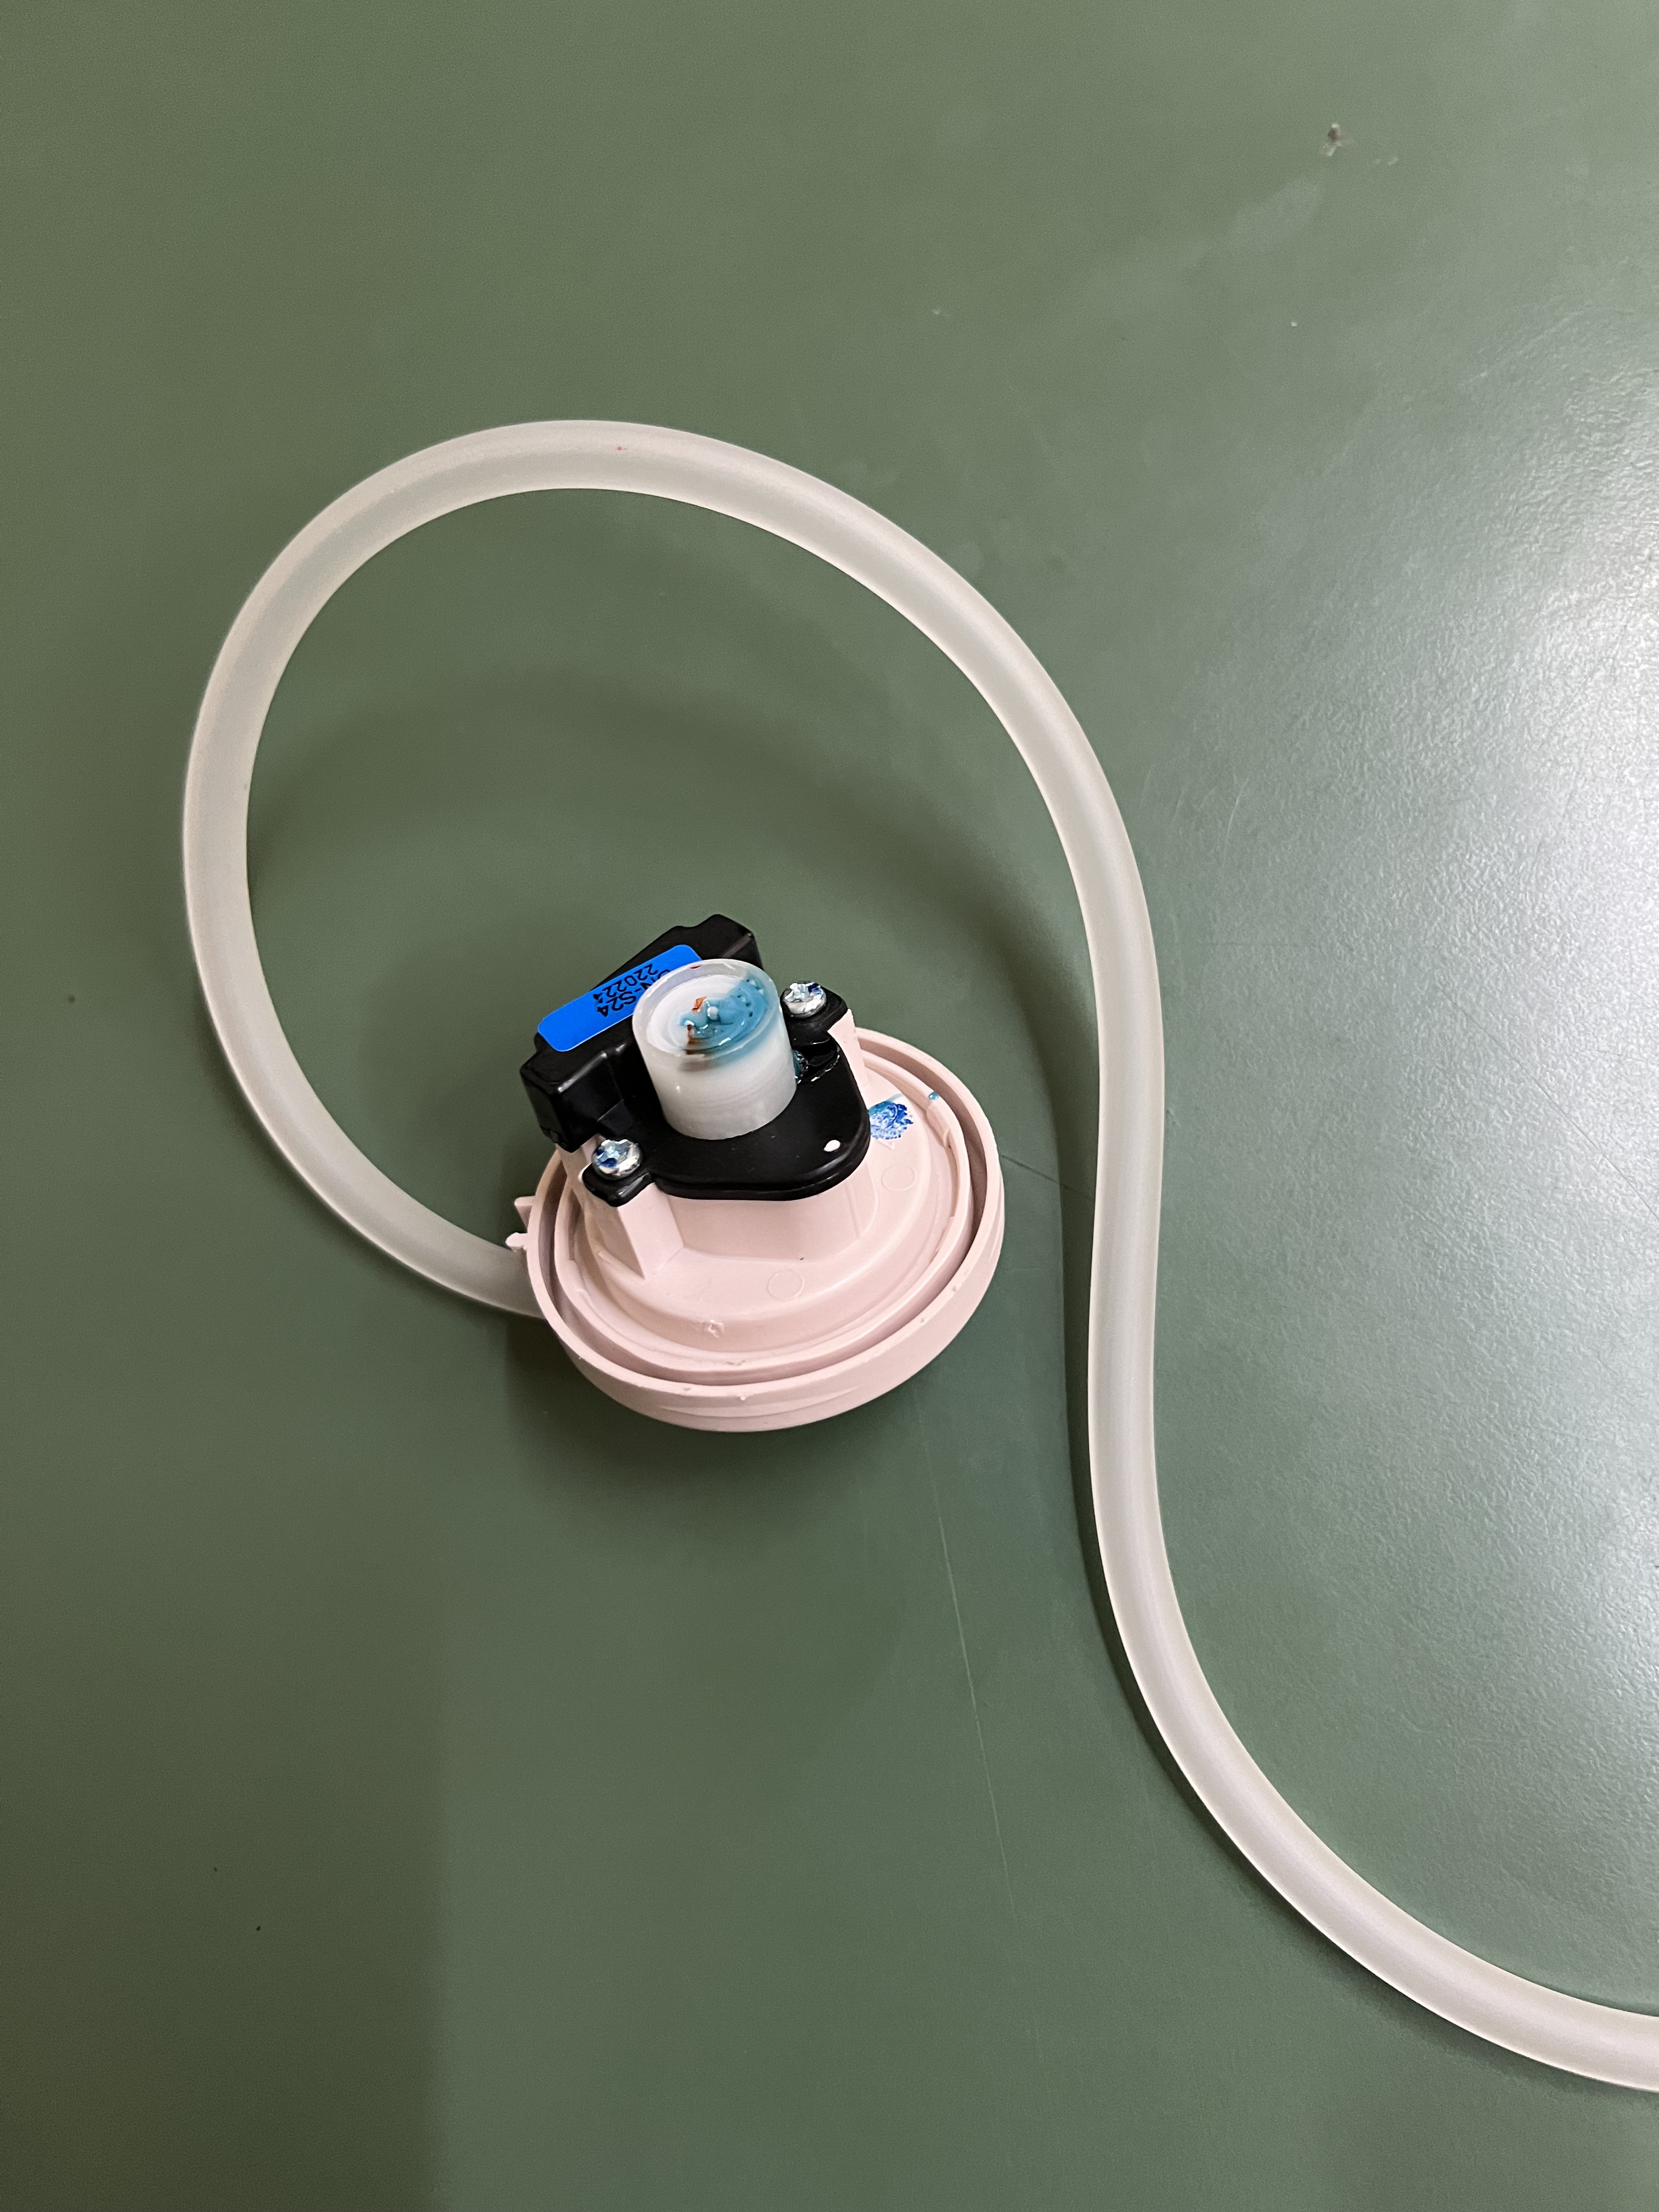pressure_sensor: (141, 369, 1310, 1470)
